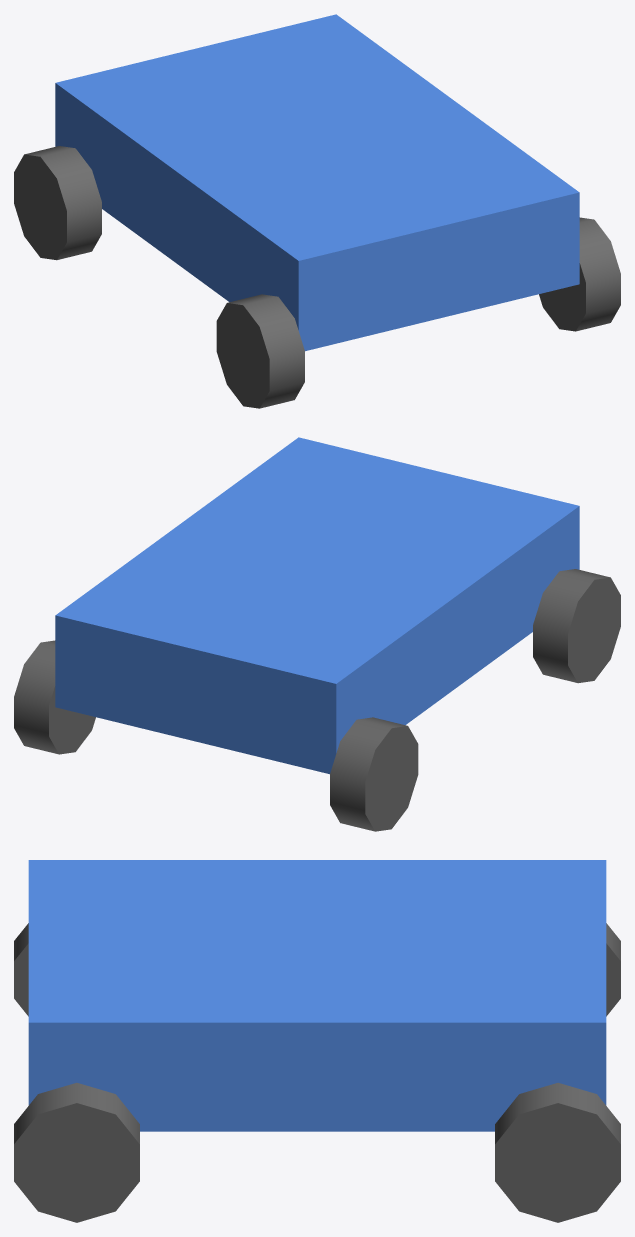
The model's file is car_full.gltf.
3 views of the same model, one above another, from view 1: azimuth 30°, elevation 25°; view 2: azimuth 150°, elevation 25°; view 3: azimuth 270°, elevation 25° (orthographic). The views are drawn at different scales.
Parts seen in each view (by area): view 1: car_body, car_wheel_1, car_wheel_3, car_wheel_0; view 2: car_body, car_wheel_3, car_wheel_1, car_wheel_2; view 3: car_body, car_wheel_0, car_wheel_2, car_wheel_1, car_wheel_3.
Boxes of the visible parts, x1,y1,x2,y2 form: car_body: (55,14,579,351); car_wheel_1: (216,294,304,408); car_wheel_3: (14,146,101,260); car_wheel_0: (539,217,620,331); car_body: (55,437,579,774); car_wheel_3: (330,717,418,831); car_wheel_1: (533,569,620,683); car_wheel_2: (14,640,95,754); car_body: (28,860,606,1131); car_wheel_0: (14,1082,139,1222); car_wheel_2: (495,1082,620,1222); car_wheel_1: (14,923,28,1016); car_wheel_3: (606,923,620,1016).
Size of the model in its own units: 2 by 0.825 by 2.52.
